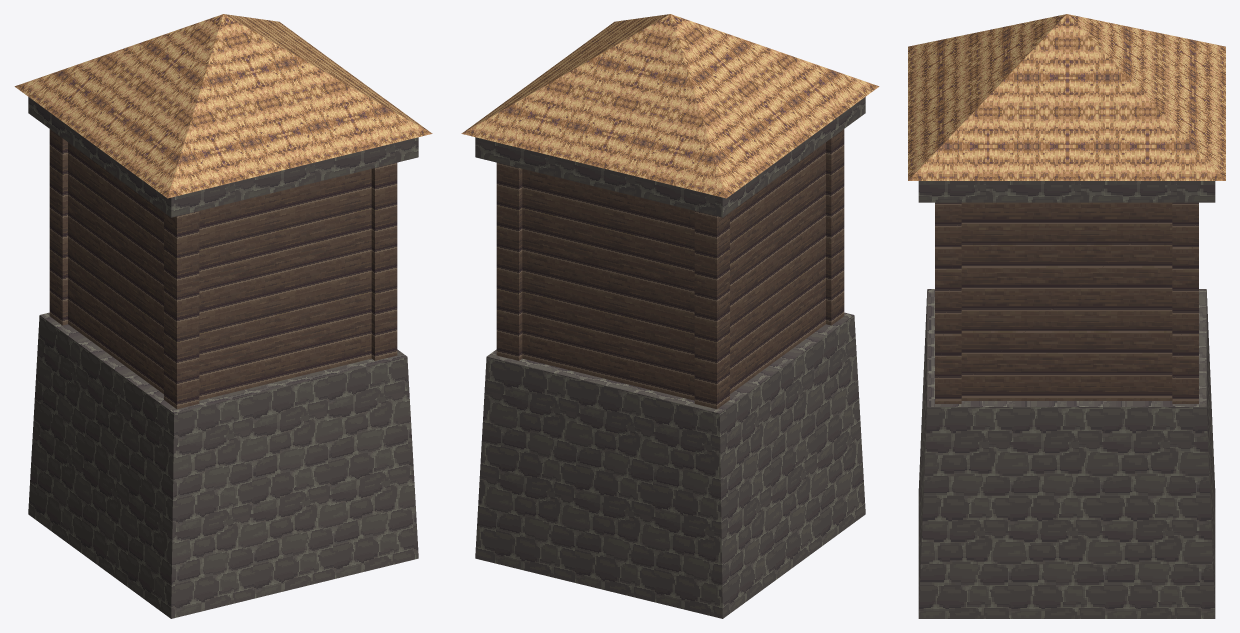
The model's file is tower_corner.glb.
The picture shows the model from 3 angles, left to right: view 1: azimuth 30°, elevation 25°; view 2: azimuth 150°, elevation 25°; view 3: azimuth 270°, elevation 25°; orthographic projection. The views are drawn at different scales.
Parts seen in each view (by area): view 1: tower_corner; view 2: tower_corner; view 3: tower_corner.
Boxes of the visible parts, bbox=[...] form: tower_corner: bbox=[14, 14, 432, 618]; tower_corner: bbox=[461, 14, 879, 618]; tower_corner: bbox=[908, 14, 1225, 618].
Bounding box in the file's own units: 3.32 × 6.25 × 3.32.
Materials: 3 (3 with a texture image).
